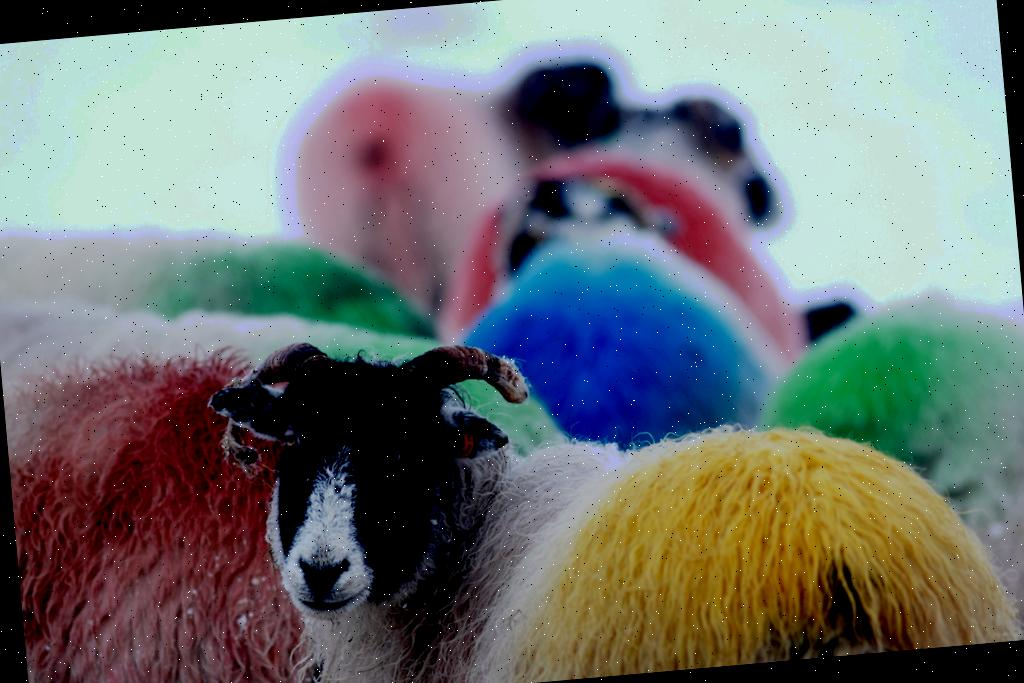Sheep: (212, 269, 994, 683)
